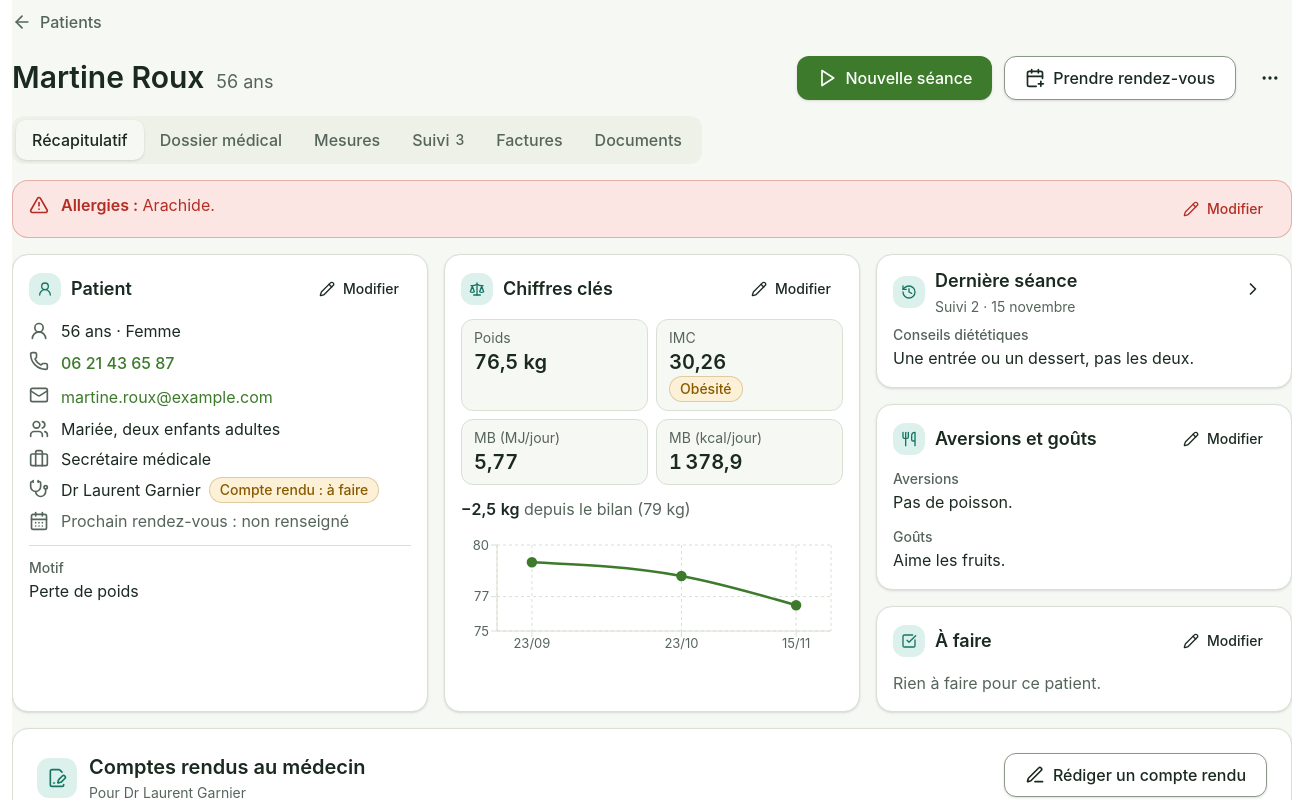
Test case: PatientDetailPage › keeps the access history, the PDF export and archiving in the « … » menu
Click the button named "Plus d’actions": click(1270, 78) left=1248, top=56, right=1292, bottom=100
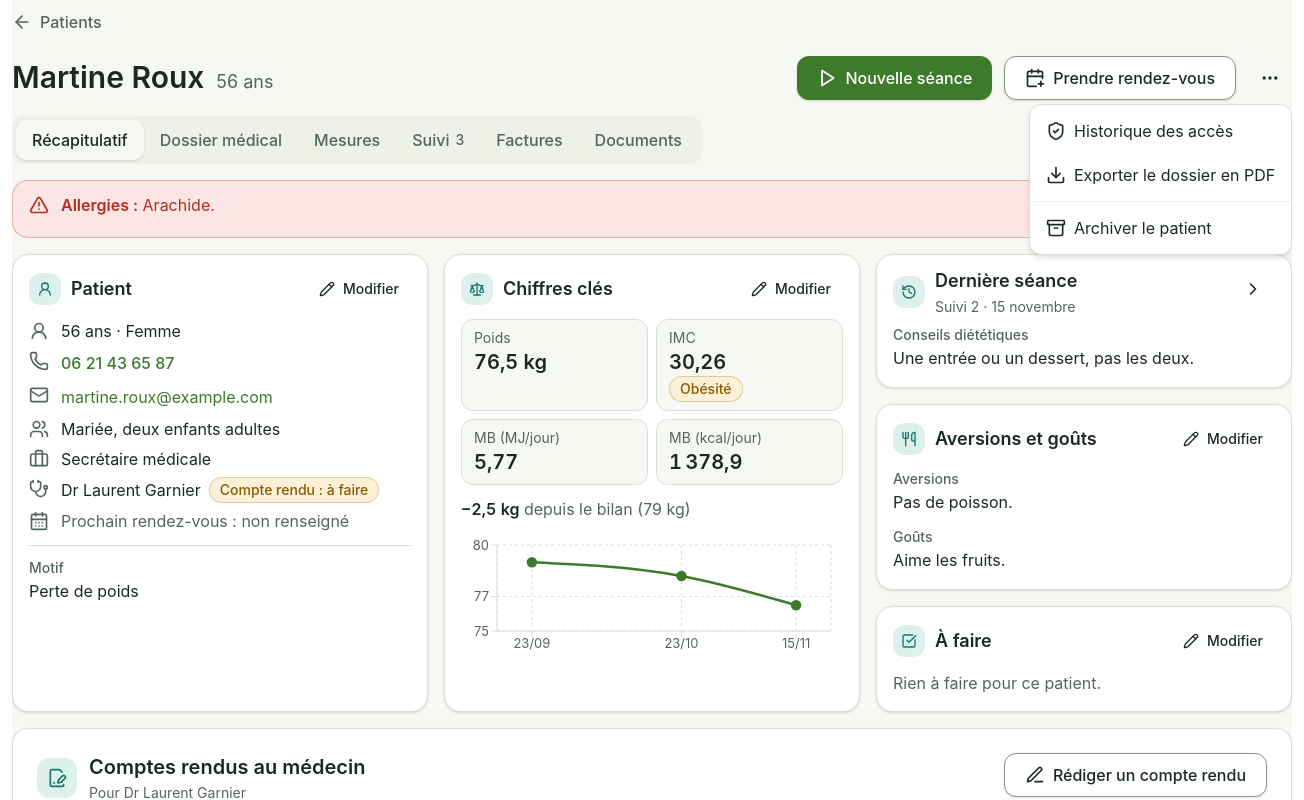
Now the menu item "Historique des accès" is shown, box left=1046, top=121, right=1233, bottom=141
Now the menu item "Exporter le dossier en PDF" is shown, box left=1046, top=165, right=1275, bottom=185
Now the menu item "Archiver le patient" is shown, box left=1046, top=218, right=1212, bottom=238
